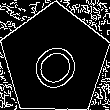O_NE: (23, 28, 87, 93)
